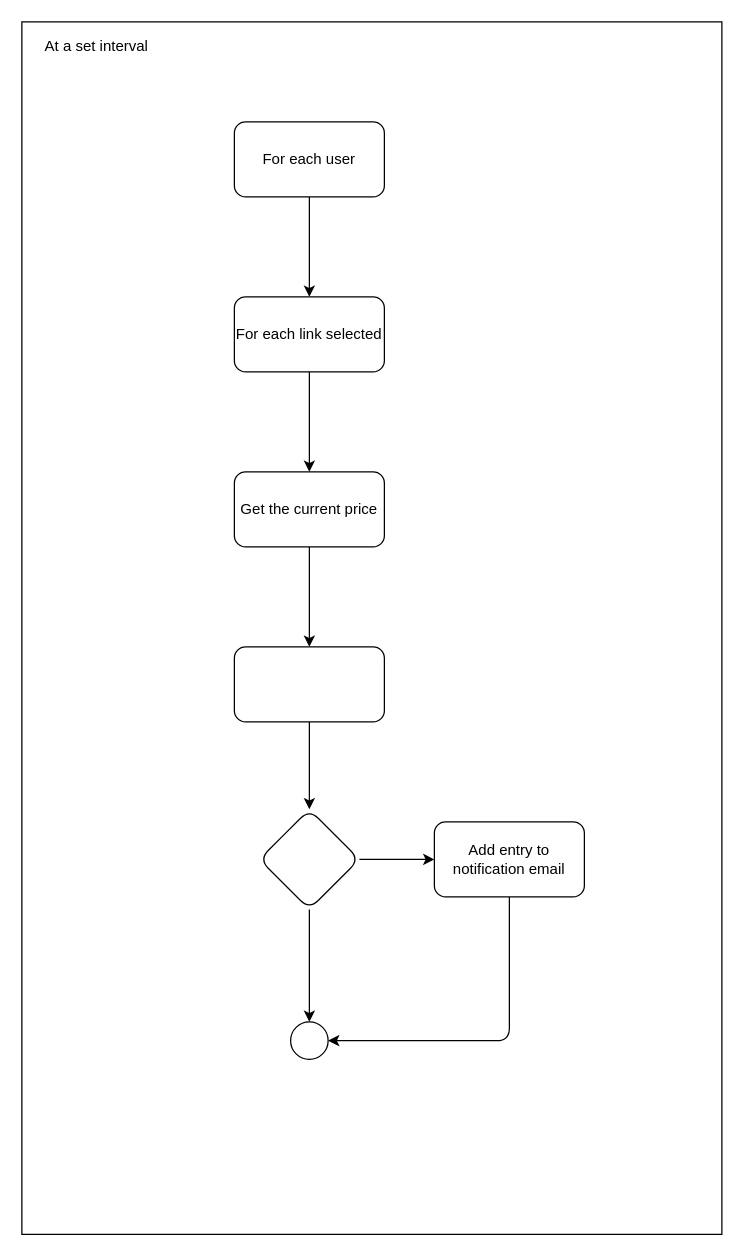
The diagram is 744 pixels wide and 1256 high, and some of its shapes have lost their labels. Here are the shapes that lost their labels. From the top down, the centre of each, then its label:
point 308,684: Update historical price
point 308,858: price < threshold
